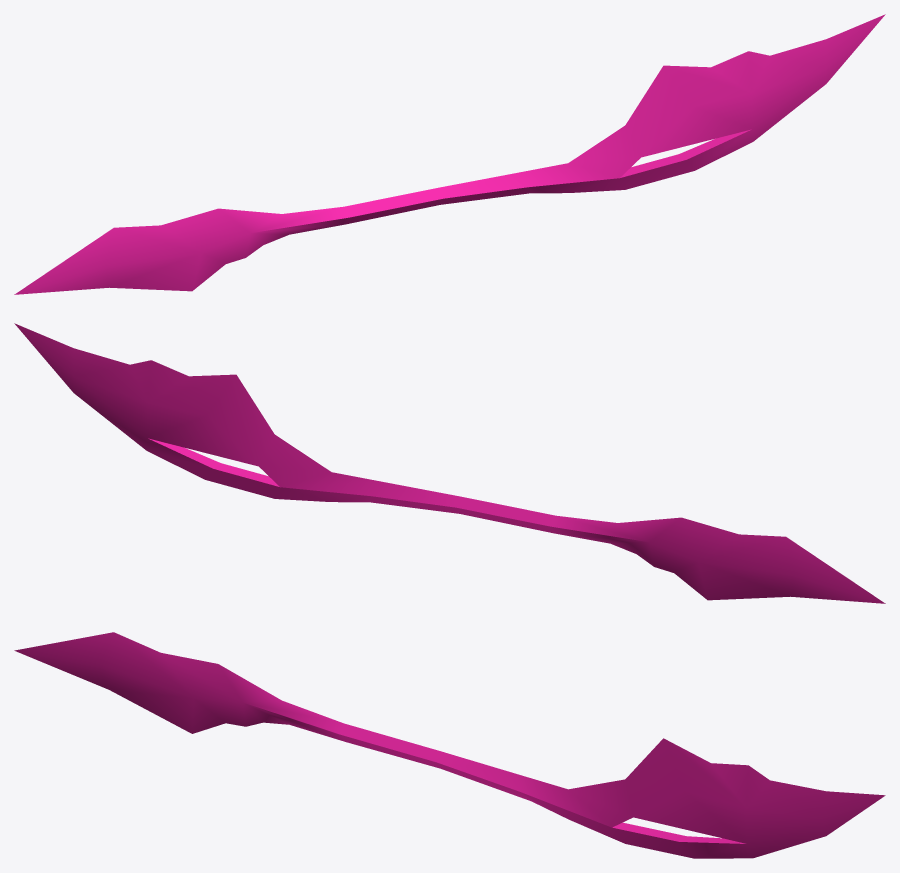
3 renders of one model, top to bottom at view 1: azimuth 30°, elevation 25°; view 2: azimuth 150°, elevation 25°; view 3: azimuth 330°, elevation 25°, orthographic.
Parts seen in each view (by area): view 1: Object_5; view 2: Object_5; view 3: Object_5.
Part boxes in pixels (<box>): Object_5: <box>14,14,885,294</box>; Object_5: <box>14,323,885,603</box>; Object_5: <box>14,632,885,858</box>.
Size of the model in its own units: 1 by 0.1261 by 0.0154.
